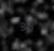three: (19, 20, 26, 31), (27, 19, 34, 30)
